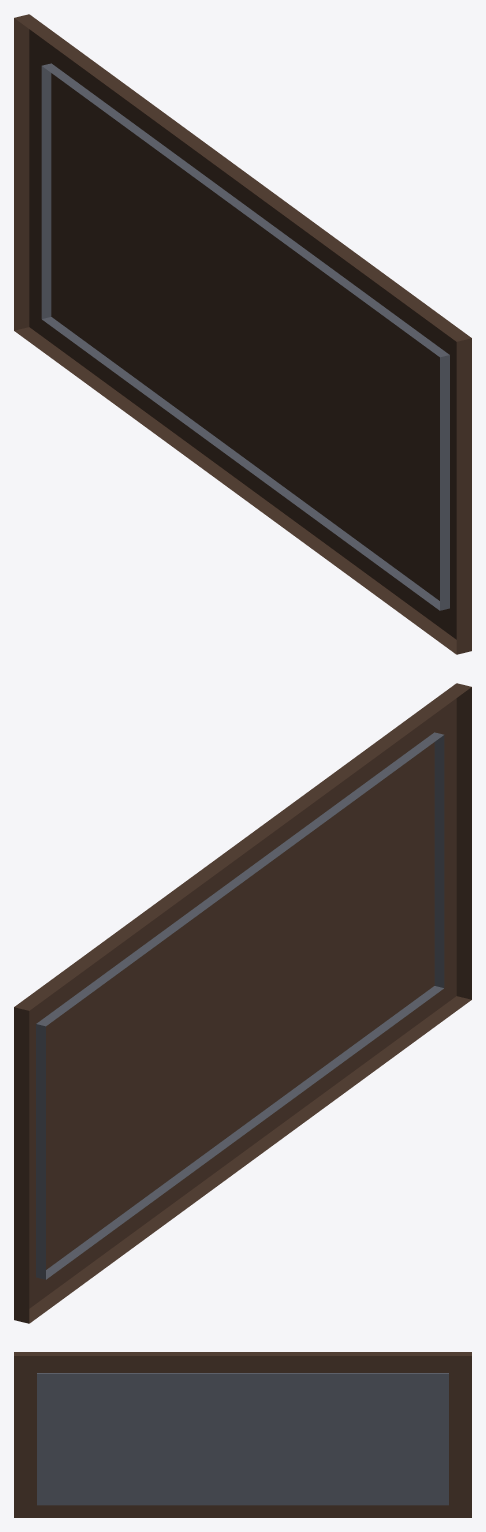
The model's file is S_Mirror01.fbx.
The picture shows the model from 3 angles, top to bottom: view 1: azimuth 30°, elevation 25°; view 2: azimuth 150°, elevation 25°; view 3: azimuth 270°, elevation 25°; orthographic projection. The views are drawn at different scales.
Parts seen in each view (by area): view 1: S_Mirror01; view 2: S_Mirror01; view 3: S_Mirror01.
Part boxes in pixels (bbox=[...]): S_Mirror01: bbox=[14, 14, 471, 654]; S_Mirror01: bbox=[14, 683, 471, 1323]; S_Mirror01: bbox=[14, 1352, 471, 1517].
Size of the model in its own units: 7.52 by 117 by 300.
